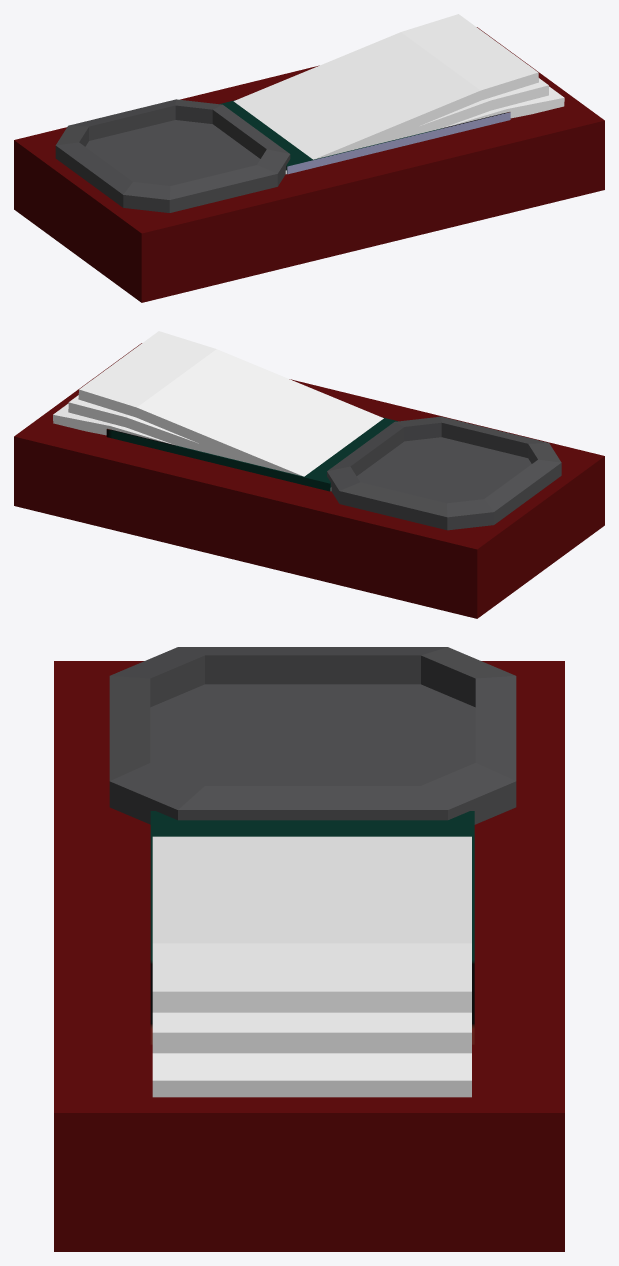
Rendered from SM_tissue_box.fbx.
The picture shows the model from 3 angles, top to bottom: view 1: azimuth 30°, elevation 25°; view 2: azimuth 150°, elevation 25°; view 3: azimuth 270°, elevation 25°; orthographic projection. The views are drawn at different scales.
Visible parts, largest first — view 1: tissue_box; view 2: tissue_box; view 3: tissue_box.
Part boxes in pixels (x1,y1,x2,y2): tissue_box: (14,14,604,302); tissue_box: (14,331,604,618); tissue_box: (54,647,564,1251).
Size of the model in its own units: 65.07 by 14.72 by 31.08.
